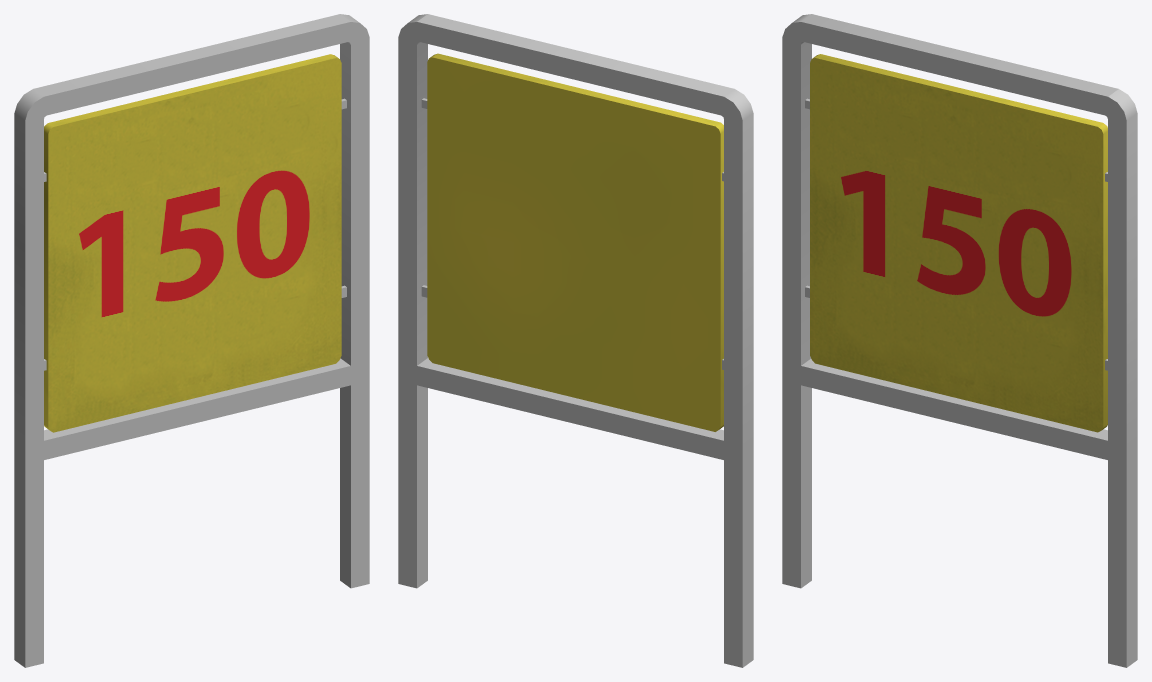
File: Track_Sign_150_Yellow.fbx
The picture shows the model from 3 angles, left to right: view 1: azimuth 30°, elevation 25°; view 2: azimuth 150°, elevation 25°; view 3: azimuth 330°, elevation 25°; orthographic projection.
Visible parts, largest first — view 1: Speed_150, Frame; view 2: Speed_150, Frame; view 3: Speed_150, Frame.
Boxes of the visible parts, box(x1,y1,x2,y2) form: Speed_150: box(44, 54, 341, 432); Frame: box(14, 14, 369, 667); Speed_150: box(427, 53, 723, 431); Frame: box(398, 14, 753, 667); Speed_150: box(810, 54, 1107, 432); Frame: box(782, 14, 1137, 667).
Size of the model in its own units: 130 by 204 by 7.
